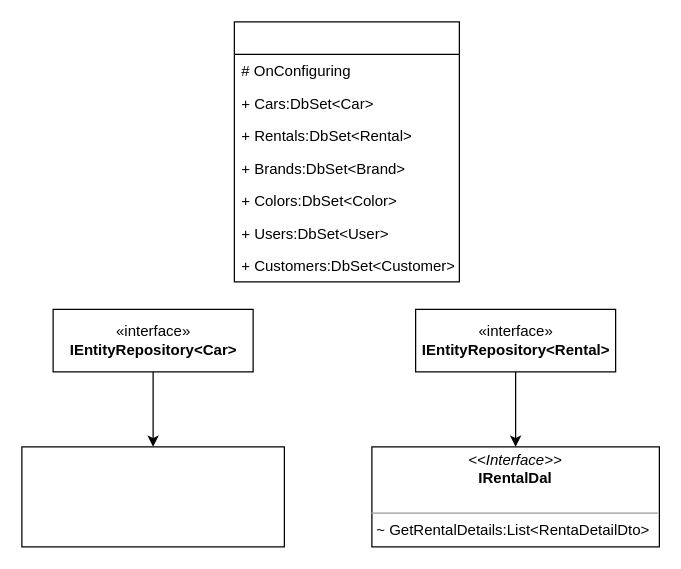
The diagram is 681 pixels wide and 569 high, and some of its shapes have lost their labels. Each missing label, with the box of its shape:
<<Interface>> IUserDal ~ GetCarDetails:List<CarDetailDto>: (21, 446, 284, 547)
RecapContext: (233, 21, 459, 282)
